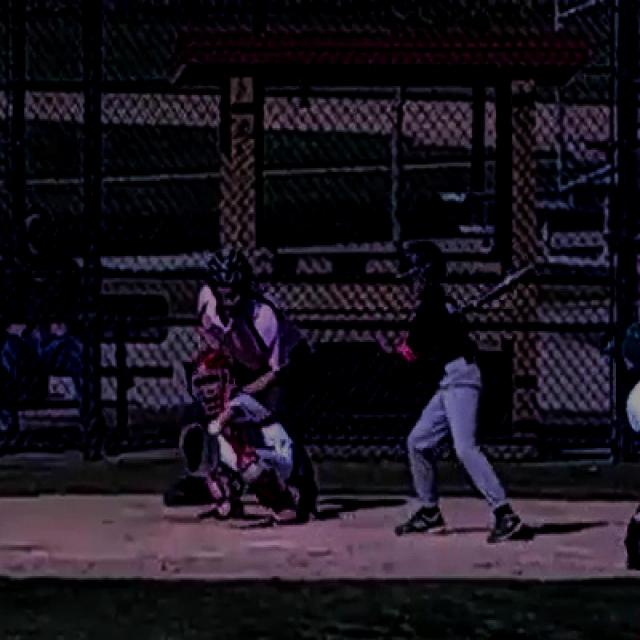baseball: (207, 419, 221, 435)
